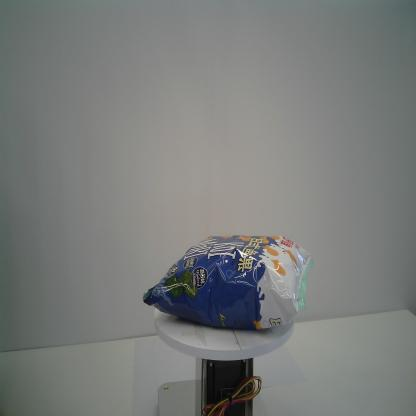Puffed Food: (142, 234, 315, 330)
